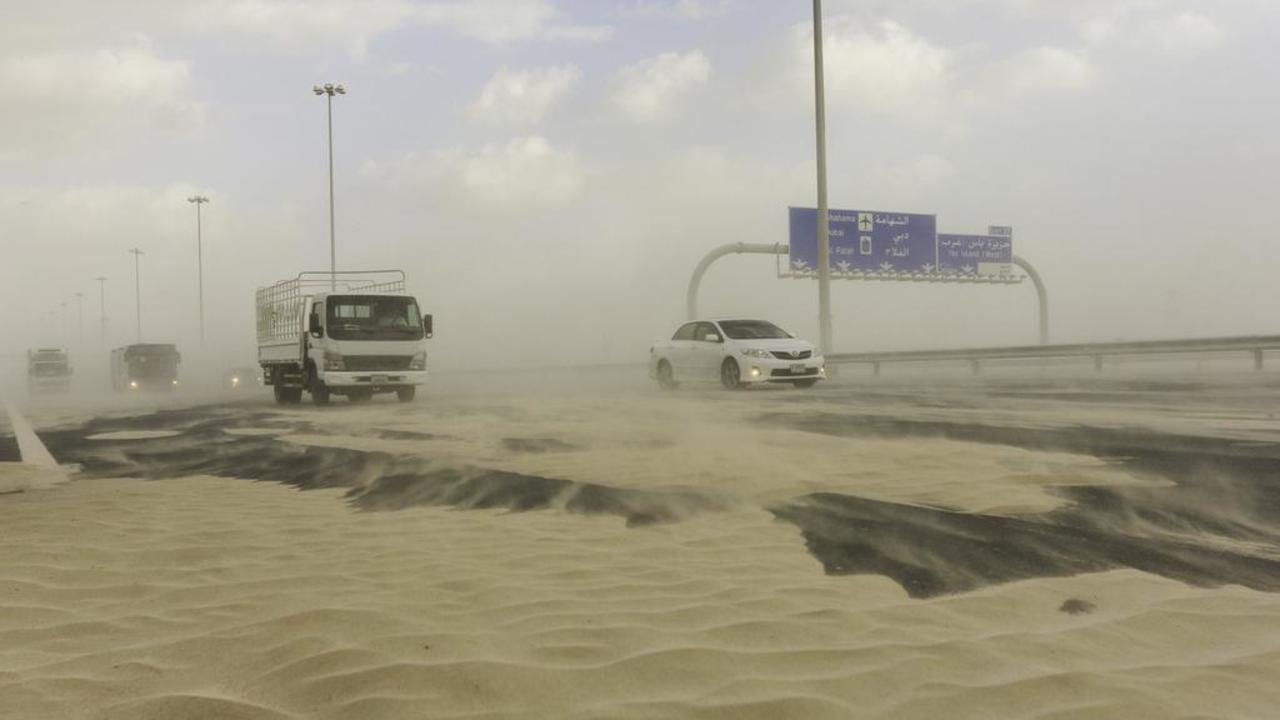bus: (110, 344, 183, 392)
car: (651, 315, 826, 390), (222, 364, 263, 389)
truck: (252, 273, 432, 404), (27, 347, 74, 396)
